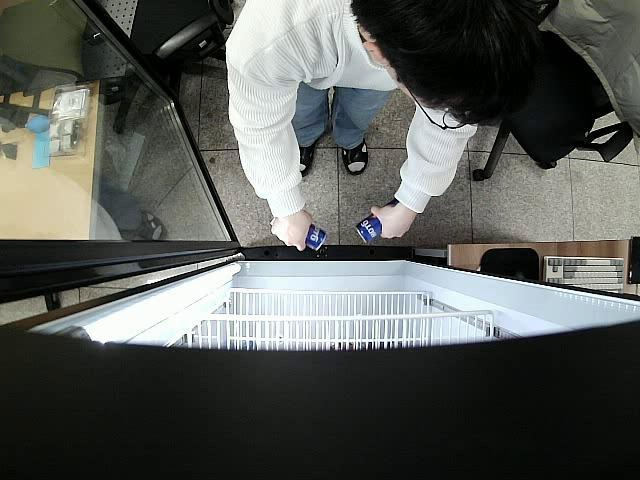16_hot6: (268, 216, 328, 252), (357, 195, 400, 244)
